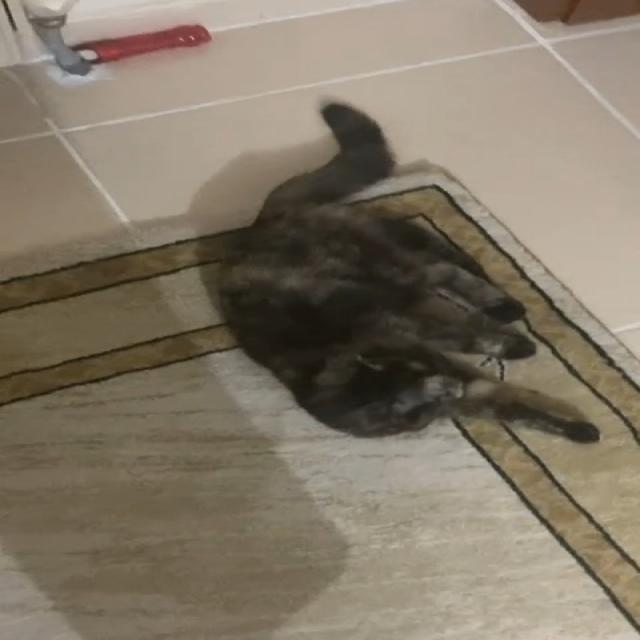authorized: (192, 100, 601, 444)
